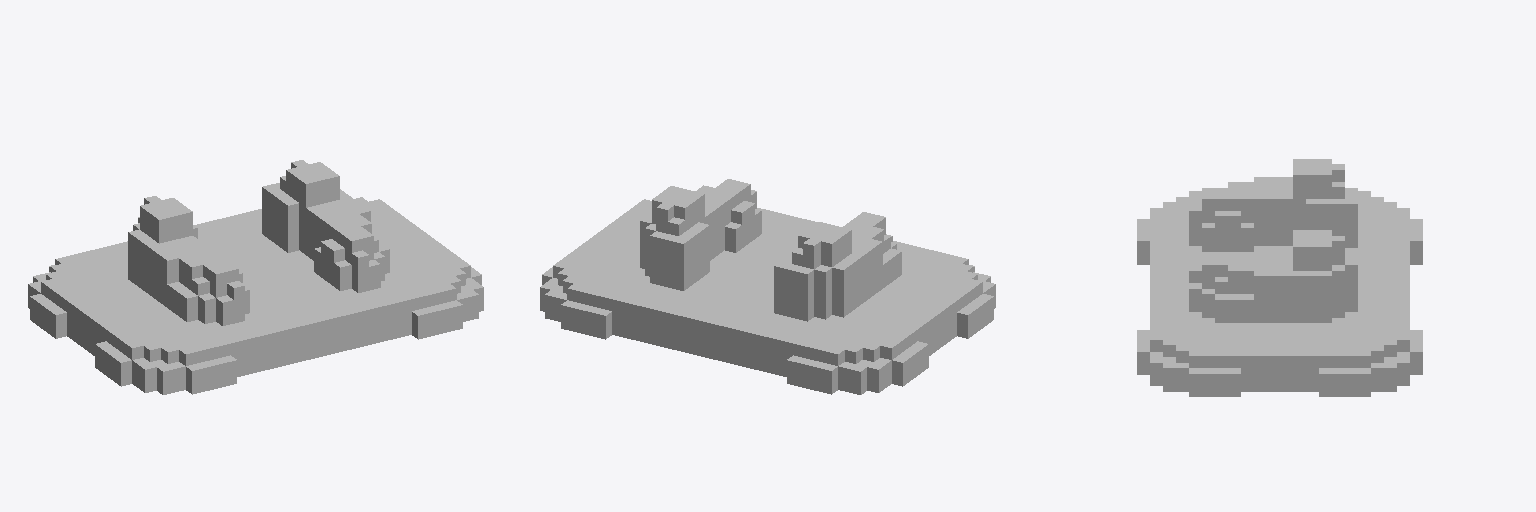
The model's file is wiiboard and ankles.obj.
3 views of the same model, side by side, from view 1: azimuth 30°, elevation 25°; view 2: azimuth 150°, elevation 25°; view 3: azimuth 270°, elevation 25° (orthographic).
Parts seen in each view (by area): view 1: object 1; view 2: object 1; view 3: object 1.
Boxes of the visible parts, x1,y1,x2,y2 form: object 1: [28, 160, 483, 394]; object 1: [540, 179, 995, 394]; object 1: [1137, 159, 1422, 396].
Bounding box in the file's own units: 3.2 × 0.9 × 2.2.